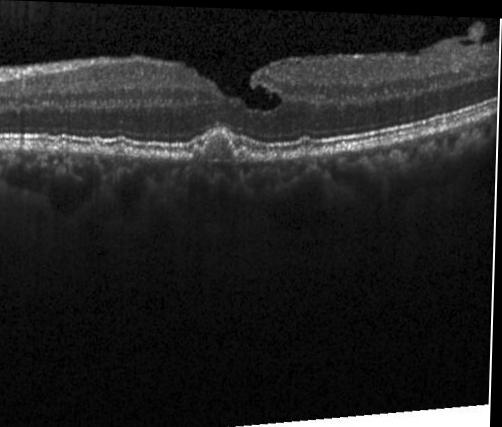intraretinal_cyst: (460, 36, 475, 42)
lamellar_macular_rupture: (195, 68, 282, 109)
retinal_drusen: (205, 131, 236, 161), (298, 145, 315, 155), (239, 148, 250, 161), (90, 143, 102, 154), (59, 144, 73, 151), (194, 148, 202, 160), (273, 149, 282, 158), (116, 148, 126, 156)
